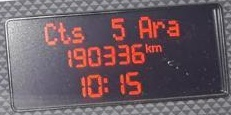0: (85, 71, 101, 98), (86, 45, 101, 67)
1: (76, 73, 85, 98), (63, 48, 72, 69), (117, 71, 124, 96)
3: (101, 43, 116, 66), (117, 42, 130, 65)
5: (124, 69, 142, 96), (108, 16, 126, 41)
6: (129, 41, 144, 63)
9: (73, 46, 85, 69)
X: (135, 13, 152, 40), (42, 20, 57, 46), (57, 20, 71, 46), (164, 17, 179, 37), (151, 17, 164, 38), (71, 25, 84, 44), (101, 75, 109, 93), (151, 42, 162, 53), (143, 40, 151, 53)
